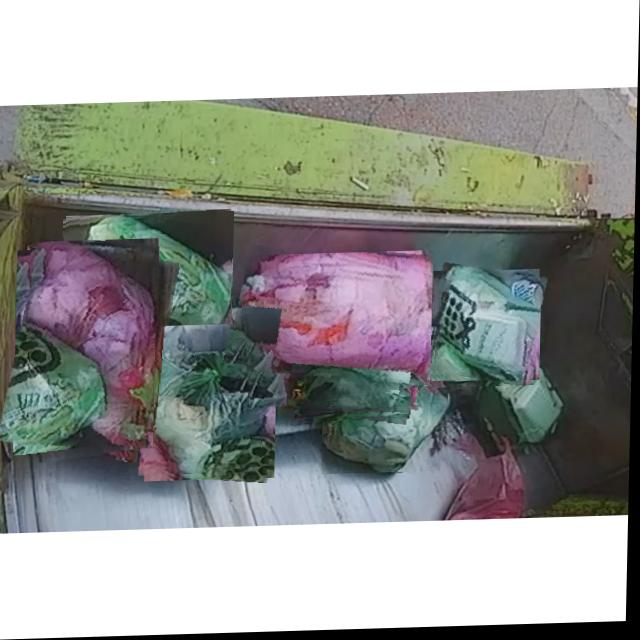general_trashbag: (69, 218, 233, 367), (150, 328, 277, 476), (435, 269, 542, 389), (324, 388, 450, 474), (297, 378, 413, 418)
other_trashbag: (31, 242, 157, 454), (244, 256, 433, 393)
